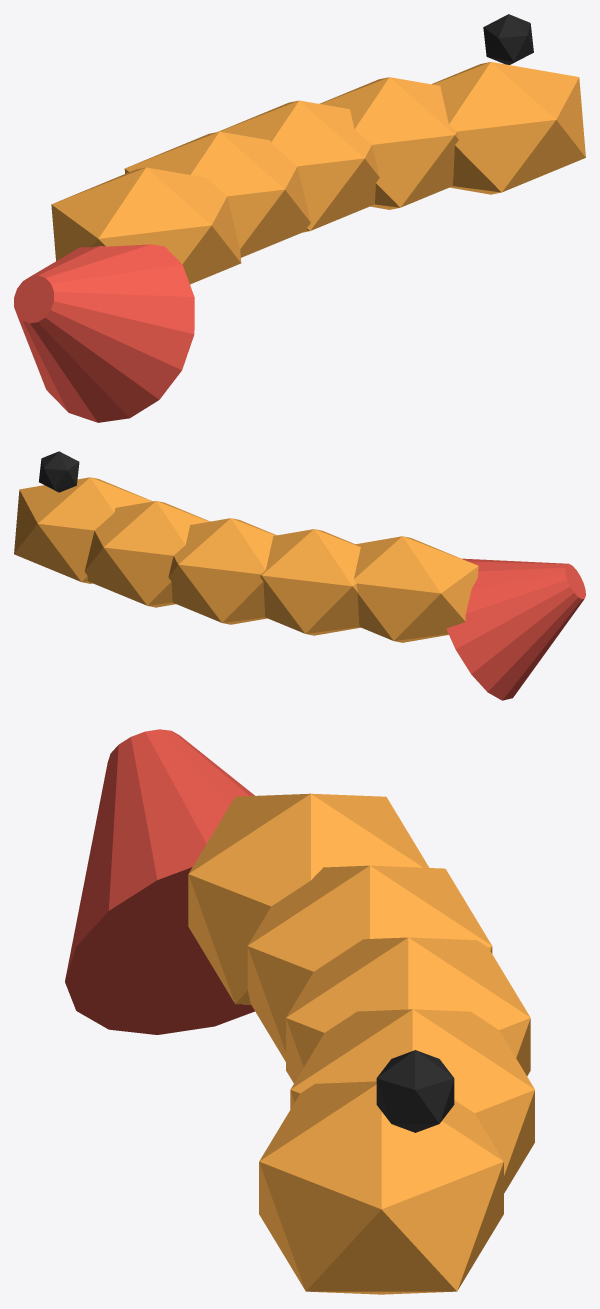
The model's file is shrimp.glb.
3 renders of one model, top to bottom at view 1: azimuth 30°, elevation 25°; view 2: azimuth 150°, elevation 25°; view 3: azimuth 270°, elevation 25°, orthographic. The views are drawn at different scales.
Visible parts, largest first — view 1: tail, segment.004, segment, segment.003, segment.001, segment.002, eye; view 2: tail, segment, segment.001, segment.002, segment.003, segment.004, eye; view 3: segment.004, tail, segment, segment.001, segment.002, segment.003, eye.
Boxes of the visible parts, x1=… form: tail: x1=14, y1=244, x2=194, y2=422; segment.004: x1=432, y1=62, x2=585, y2=194; segment: x1=51, y1=167, x2=241, y2=284; segment.003: x1=319, y1=77, x2=458, y2=209; segment.001: x1=124, y1=131, x2=310, y2=257; segment.002: x1=218, y1=100, x2=379, y2=232; eye: x1=483, y1=14, x2=533, y2=64; tail: x1=446, y1=558, x2=585, y2=700; segment: x1=353, y1=536, x2=478, y2=642; segment.001: x1=260, y1=529, x2=360, y2=635; segment.002: x1=168, y1=518, x2=276, y2=624; segment.003: x1=84, y1=501, x2=209, y2=607; segment.004: x1=14, y1=477, x2=152, y2=583; eye: x1=39, y1=451, x2=79, y2=492; segment.004: x1=259, y1=1081, x2=503, y2=1294; tail: x1=65, y1=729, x2=254, y2=1034; segment: x1=188, y1=793, x2=429, y2=1004; segment.001: x1=247, y1=865, x2=492, y2=1061; segment.002: x1=286, y1=937, x2=530, y2=1083; segment.003: x1=290, y1=1009, x2=534, y2=1193; eye: x1=376, y1=1050, x2=454, y2=1132.
Bounding box in the file's own units: 0.8954 × 0.3124 × 0.3595.
